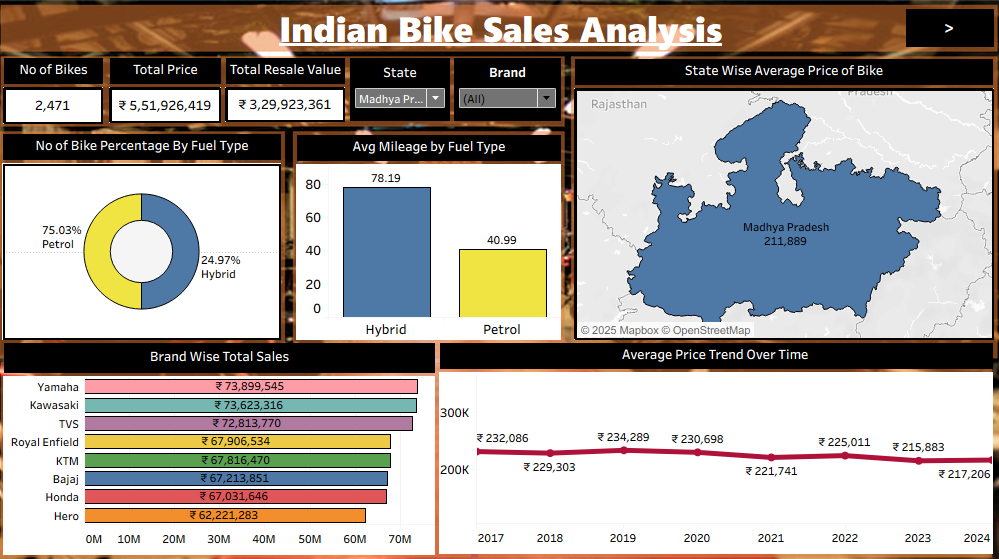

This screenshot's page, from the dashboard's own definition file:
{"tool":"tableau","page":{"name":"Dashboard 1","canvas":[1024,768],"ordinal":0},"visuals":[{"type":"image","param":"C:/Users/Ashu/OneDrive/Desktop/dash 1.png","box":[8,8,1008,752]},{"type":"text","box":[110,108,808,46]},{"type":"dashboard-object","box":[919,112,88,38]},{"type":"worksheet","title":"Total Bikes","mark":"Automatic","box":[16,161,100,66]},{"type":"worksheet","title":"Total Price","mark":"Automatic","box":[122,161,112,65]},{"type":"worksheet","title":"Total Resale Value","mark":"Automatic","box":[238,161,120,64]},{"type":"filter","title":"State Wise Average Price of Bike","param":"[federated.1idx07p17kpgme1gkm1hn1pq9t39].[none:State:nk]","box":[363,161,100,63]},{"type":"filter","title":"Avg Mileage by Fuel Type","param":"[federated.1idx07p17kpgme1gkm1hn1pq9t39].[none:Brand:nk]","box":[467,161,107,63]},{"type":"worksheet","title":"State Wise Average Price of Bike","mark":"Automatic","box":[587,162,420,281]},{"type":"worksheet","title":"No of Bike Percentage By Fuel Type","mark":"Pie","rows":["Calculation_719731533272817665","Calculation_719731533272817665"],"box":[15,237,279,206]},{"type":"worksheet","title":"Avg Mileage by Fuel Type","mark":"Automatic","rows":["Mileage (/km)"],"cols":["Fuel Type"],"box":[309,238,265,205]},{"type":"worksheet","title":"Sheet 11","mark":"Automatic","box":[403.4,286.6,0.9,255.5]},{"type":"worksheet","title":"Brand Performance","mark":"Automatic","rows":["Brand"],"cols":["Price (INR)"],"box":[16,446,432,212]},{"type":"worksheet","title":"Price Trend Over Time ","mark":"Line","rows":["Price (INR)"],"cols":["Registration Year"],"box":[452,446,554,211]}]}

Visuals, with their boxes on the page's 1024x768 design canvas (x1, y1, x2, y2). These are canvas units, not pixel positions in the 999x559 screenshot, which may show the page scaled, cropped or inside an application window:
image: [8,8,1016,760]
text: [110,108,918,154]
dashboard-object: [919,112,1007,150]
"Total Bikes" worksheet: [16,161,116,227]
"Total Price" worksheet: [122,161,234,226]
"Total Resale Value" worksheet: [238,161,358,225]
"State Wise Average Price of Bike" filter: [363,161,463,224]
"Avg Mileage by Fuel Type" filter: [467,161,574,224]
"State Wise Average Price of Bike" worksheet: [587,162,1007,443]
"No of Bike Percentage By Fuel Type" worksheet (Pie marks): [15,237,294,443]
"Avg Mileage by Fuel Type" worksheet: [309,238,574,443]
"Sheet 11" worksheet: [403,287,404,542]
"Brand Performance" worksheet: [16,446,448,658]
"Price Trend Over Time " worksheet (Line marks): [452,446,1006,657]
